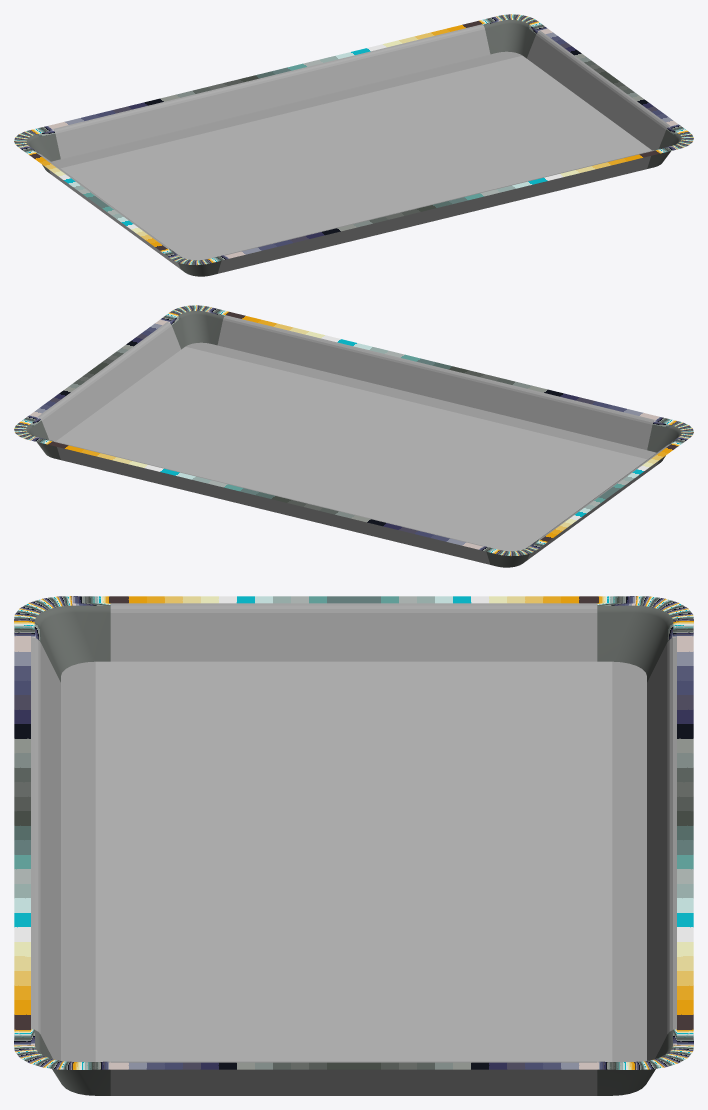
The model's file is overlay beauty corner.fbx.
The picture shows the model from 3 angles, top to bottom: view 1: azimuth 30°, elevation 25°; view 2: azimuth 150°, elevation 25°; view 3: azimuth 270°, elevation 25°; orthographic projection. The views are drawn at different scales.
Parts seen in each view (by area): view 1: POC_overlay; view 2: POC_overlay; view 3: POC_overlay.
Part boxes in pixels (bbox=[...]): POC_overlay: bbox=[14, 14, 693, 276]; POC_overlay: bbox=[14, 305, 693, 567]; POC_overlay: bbox=[14, 596, 693, 1095].
Size of the model in its own units: 2287 by 103 by 1387.
